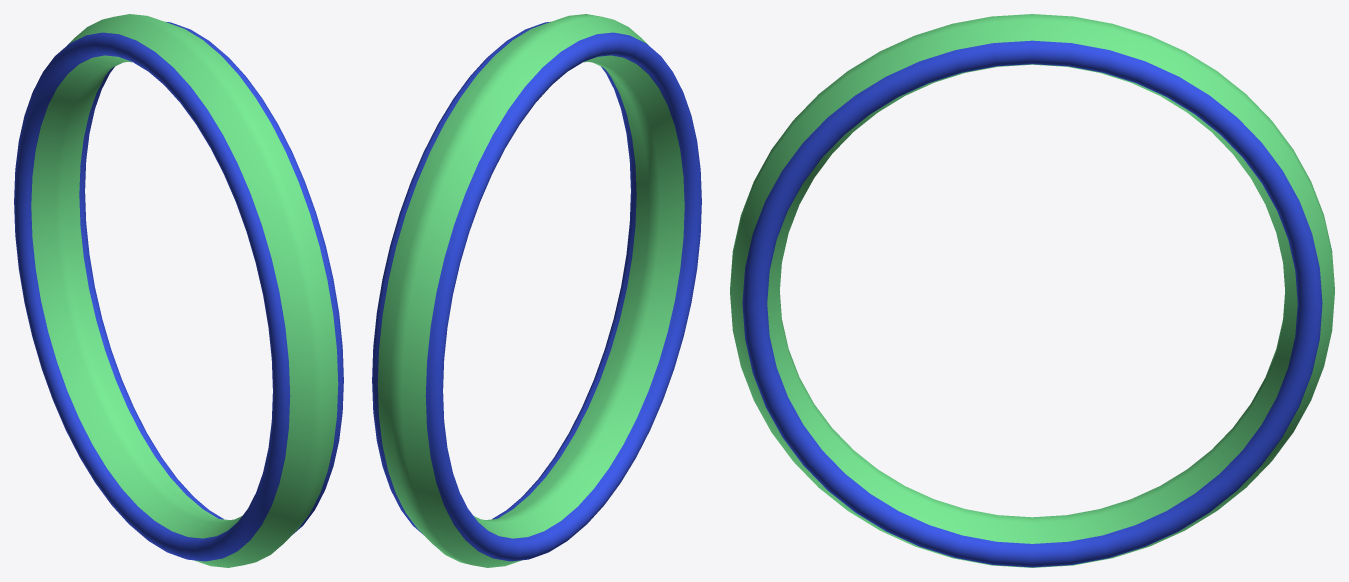
The model's file is WinCircle.fbx.
3 views of the same model, side by side, from view 1: azimuth 30°, elevation 25°; view 2: azimuth 150°, elevation 25°; view 3: azimuth 270°, elevation 25° (orthographic). The views are drawn at different scales.
Parts seen in each view (by area): view 1: WinCircle; view 2: WinCircle; view 3: WinCircle.
Boxes of the visible parts, x1=… form: WinCircle: x1=14, y1=14, x2=343, y2=567; WinCircle: x1=372, y1=14, x2=701, y2=567; WinCircle: x1=730, y1=14, x2=1334, y2=567.
Size of the model in its own units: 34 by 244 by 244.
